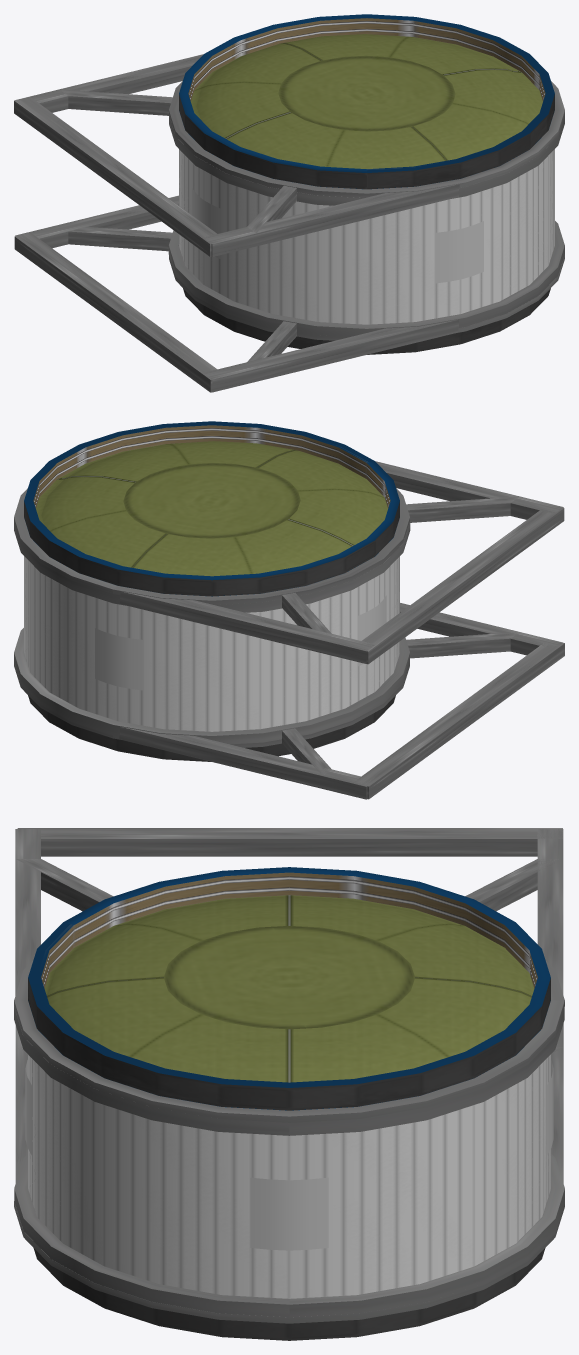
The model's file is FLM-450.FBX.
3 renders of one model, top to bottom at view 1: azimuth 30°, elevation 25°; view 2: azimuth 150°, elevation 25°; view 3: azimuth 270°, elevation 25°, orthographic. The views are drawn at different scales.
Parts seen in each view (by area): view 1: EndCap001, Cylinder002, TankSleeve001, MountingBracketBand002, Box011, Box003, Box007, Box006, BarrelBand003, TankSleeve002, Box001, MountingBracketBand001 (+8 smaller); view 2: EndCap001, Cylinder002, TankSleeve001, MountingBracketBand002, Box011, Box003, Box001, Box010, BarrelBand003, Box006, TankSleeve002, MountingBracketBand001 (+8 smaller); view 3: Cylinder002, EndCap001, TankSleeve001, Box003, MountingBracketBand002, BarrelBand003, TankSleeve002, MountingBracketBand001, decalPanel002, BarrelBand002, Box001, Box006 (+4 smaller).
Part boxes in pixels (bbox=[...]): EndCap001: bbox=[189, 34, 542, 189]; Cylinder002: bbox=[179, 149, 554, 324]; TankSleeve001: bbox=[179, 14, 554, 189]; MountingBracketBand002: bbox=[168, 221, 564, 336]; Box011: bbox=[14, 232, 217, 392]; Box003: bbox=[14, 96, 216, 256]; Box007: bbox=[203, 319, 458, 392]; Box006: bbox=[203, 184, 459, 256]; BarrelBand003: bbox=[169, 81, 564, 197]; TankSleeve002: bbox=[183, 288, 550, 354]; Box001: bbox=[16, 54, 203, 112]; MountingBracketBand001: bbox=[169, 115, 564, 205]; EndCap001: bbox=[27, 441, 396, 596]; Cylinder002: bbox=[24, 556, 399, 731]; TankSleeve001: bbox=[24, 421, 399, 596]; MountingBracketBand002: bbox=[14, 628, 409, 744]; Box011: bbox=[354, 643, 564, 799]; Box003: bbox=[358, 508, 564, 664]; Box001: bbox=[120, 591, 375, 663]; Box010: bbox=[119, 726, 370, 799]; BarrelBand003: bbox=[14, 488, 409, 604]; Box006: bbox=[375, 461, 563, 519]; TankSleeve002: bbox=[28, 695, 395, 761]; MountingBracketBand001: bbox=[14, 521, 410, 612]; Cylinder002: bbox=[28, 1054, 550, 1298]; EndCap001: bbox=[28, 895, 550, 1110]; TankSleeve001: bbox=[28, 867, 550, 1110]; Box003: bbox=[17, 828, 562, 856]; MountingBracketBand002: bbox=[14, 1154, 564, 1317]; BarrelBand003: bbox=[14, 960, 564, 1122]; TankSleeve002: bbox=[33, 1248, 545, 1340]; MountingBracketBand001: bbox=[14, 1007, 564, 1135]; decalPanel002: bbox=[250, 1177, 328, 1250]; BarrelBand002: bbox=[14, 1201, 564, 1323]; Box001: bbox=[537, 829, 563, 994]; Box006: bbox=[15, 829, 40, 995].
Size of what is drawn, in the model's own units: 2.45 by 1.97 by 1.
